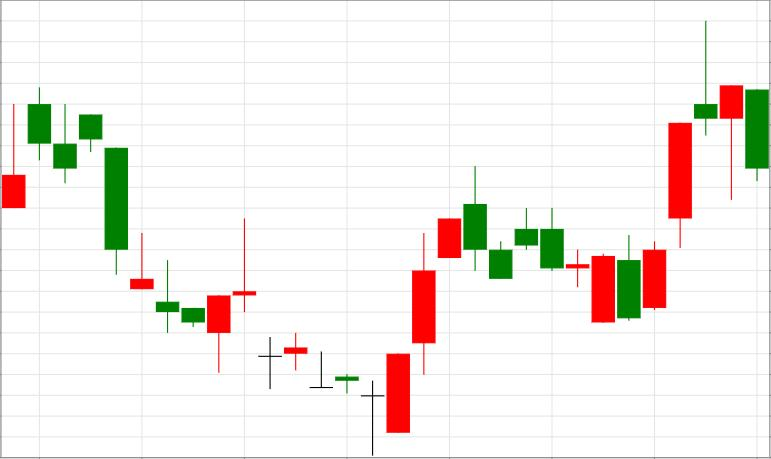hanging_man_fall: (591, 21, 742, 322)
three_white_soldiers_rise: (79, 115, 460, 455)
